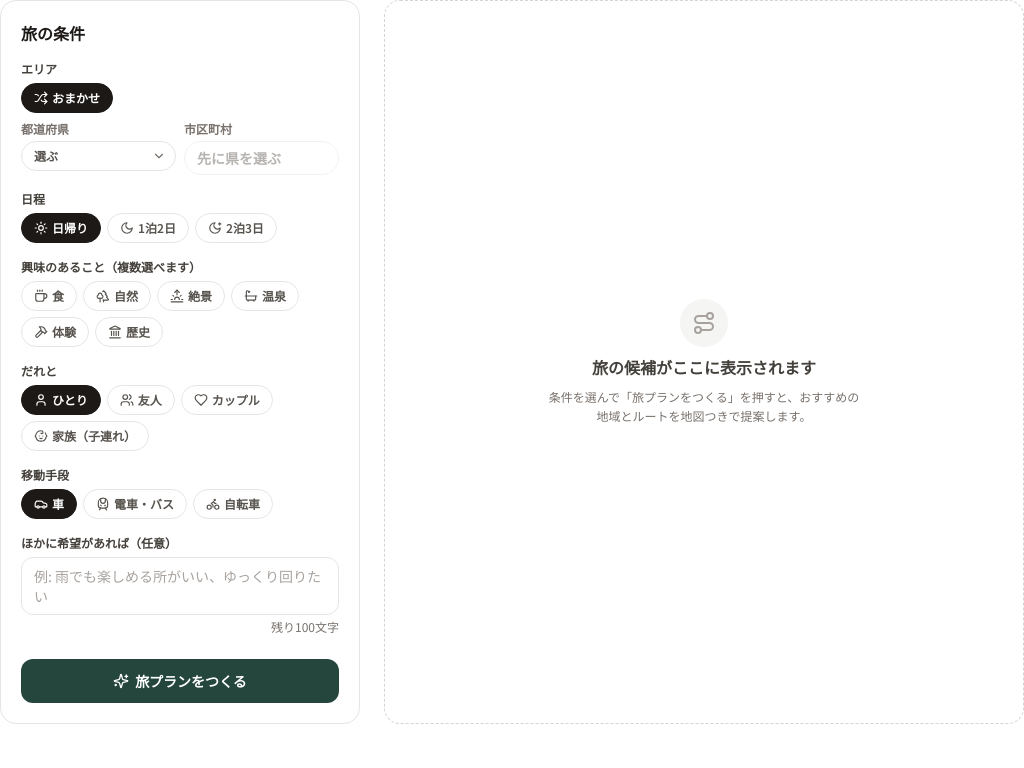
Test: PlannerForm › 条件の送り方（#17） › 地域がない町を入力すると知らせ、勧めた近くの地域を押すとその地域を選ぶ
This screenshot has width=1024, height=768.
Click the dropdown named "都道府県" at (98, 156), box [21, 141, 176, 171]
(page scrolled)
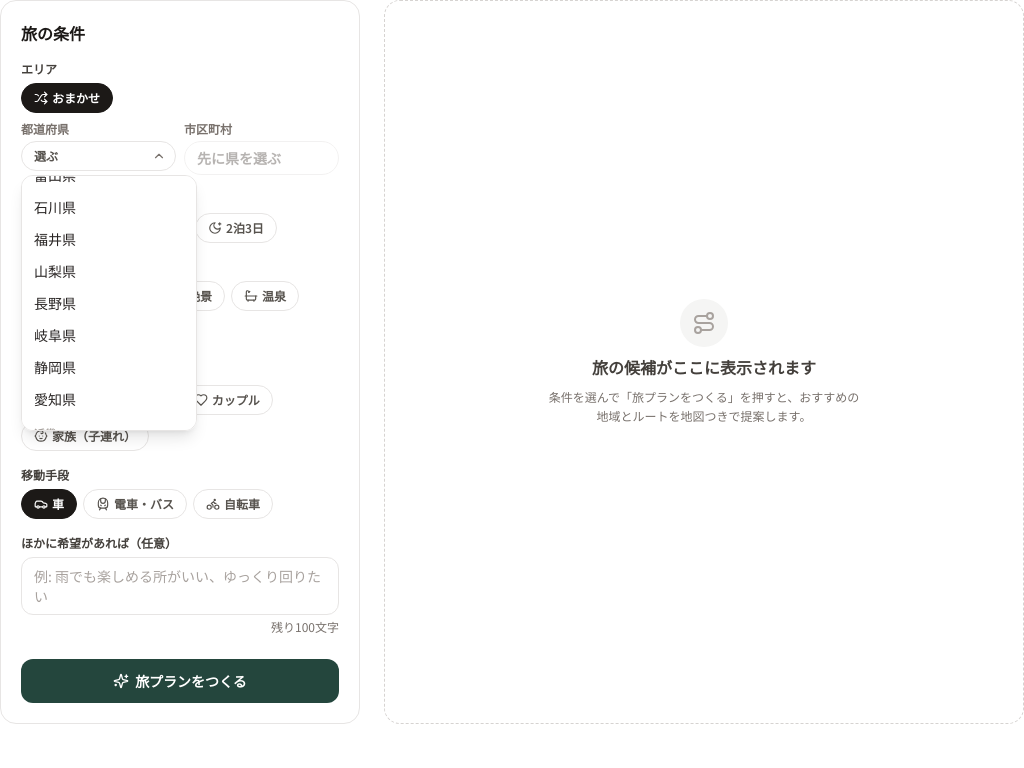
Click the option "長野県" at (55, 303), box [34, 293, 76, 313]
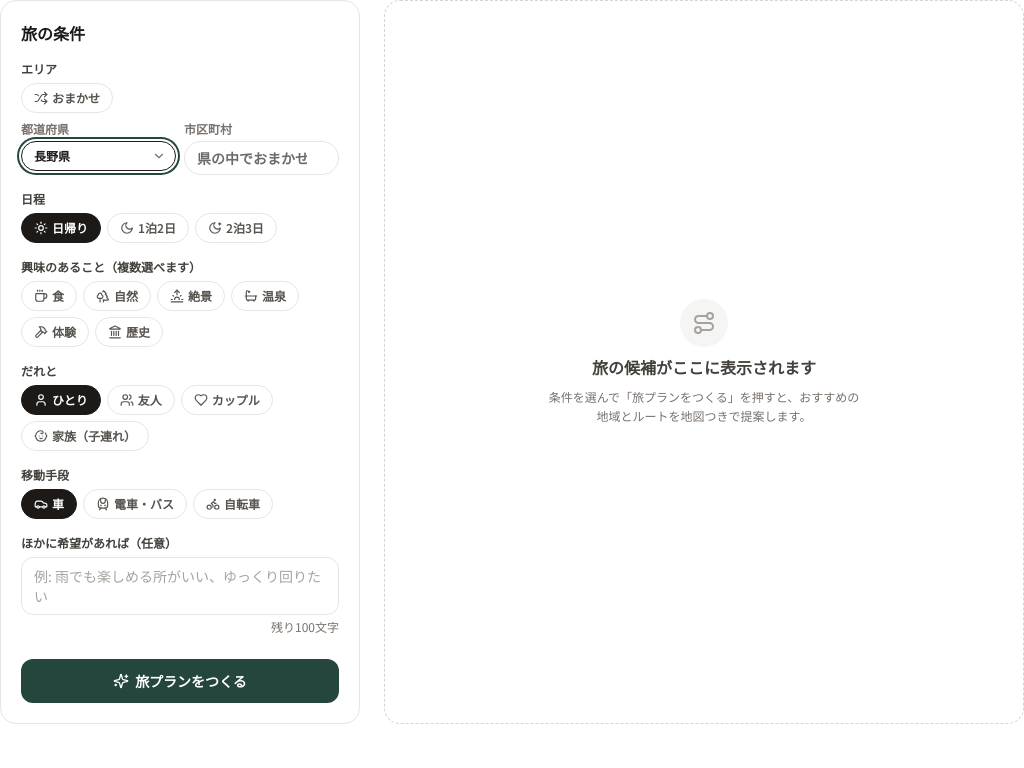
Type "軽井沢町" into the field labelled "市区町村" at (262, 158), box [184, 141, 339, 175]
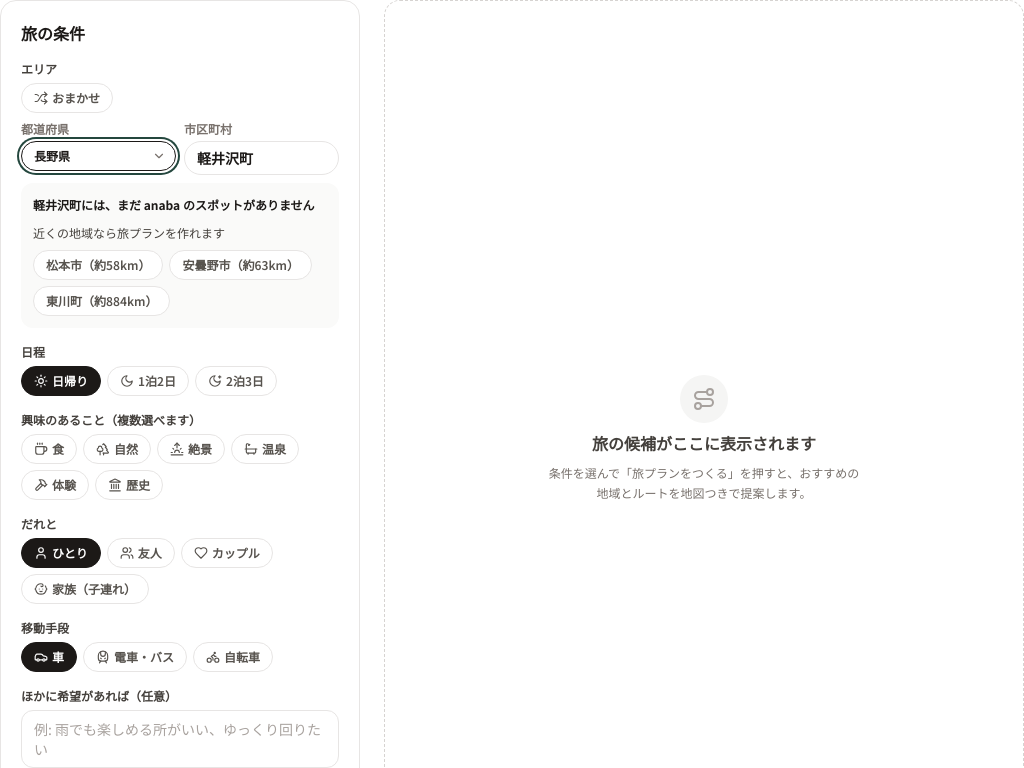
Check: the text "軽井沢町には、まだ anaba のスポットがありません" is shown, box [33, 195, 327, 214]
Click the button "松本市（約58km）" at (98, 265), box [33, 250, 164, 280]
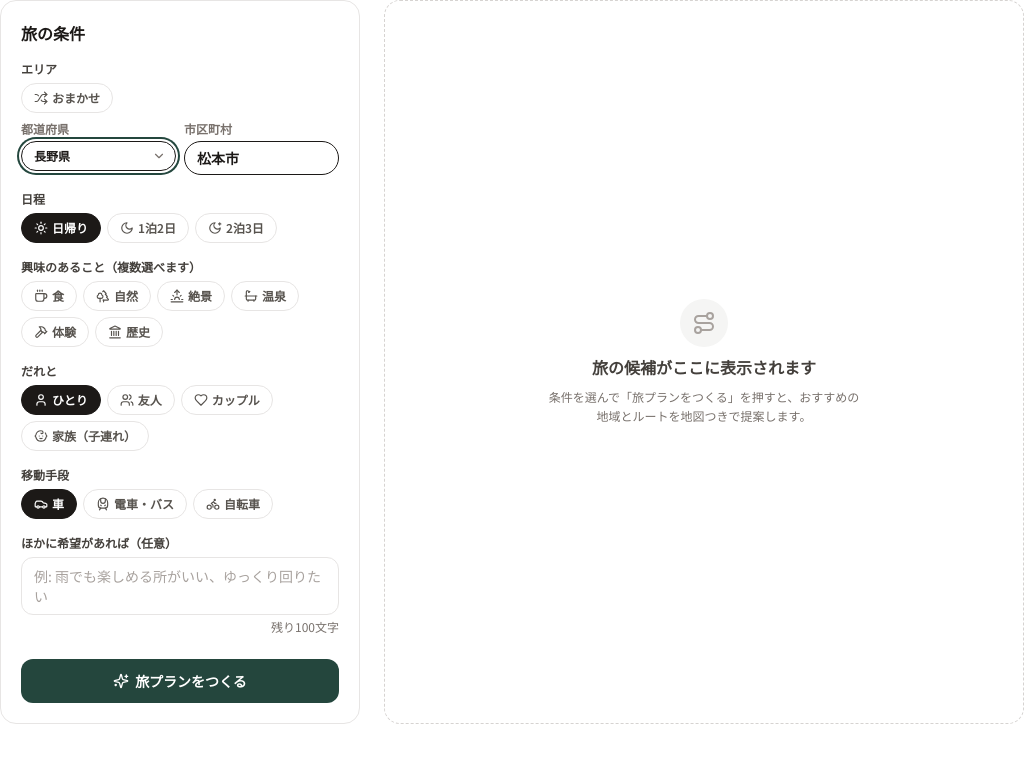
Check: the text "軽井沢町には、まだ anaba のスポットがありません" is gone
Check: the field labelled "市区町村" holds "松本市", box [184, 141, 339, 175]
